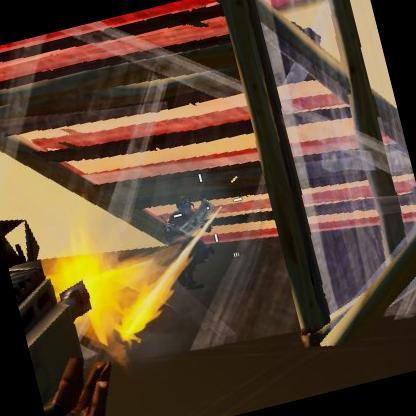person: (163, 198, 210, 275)
